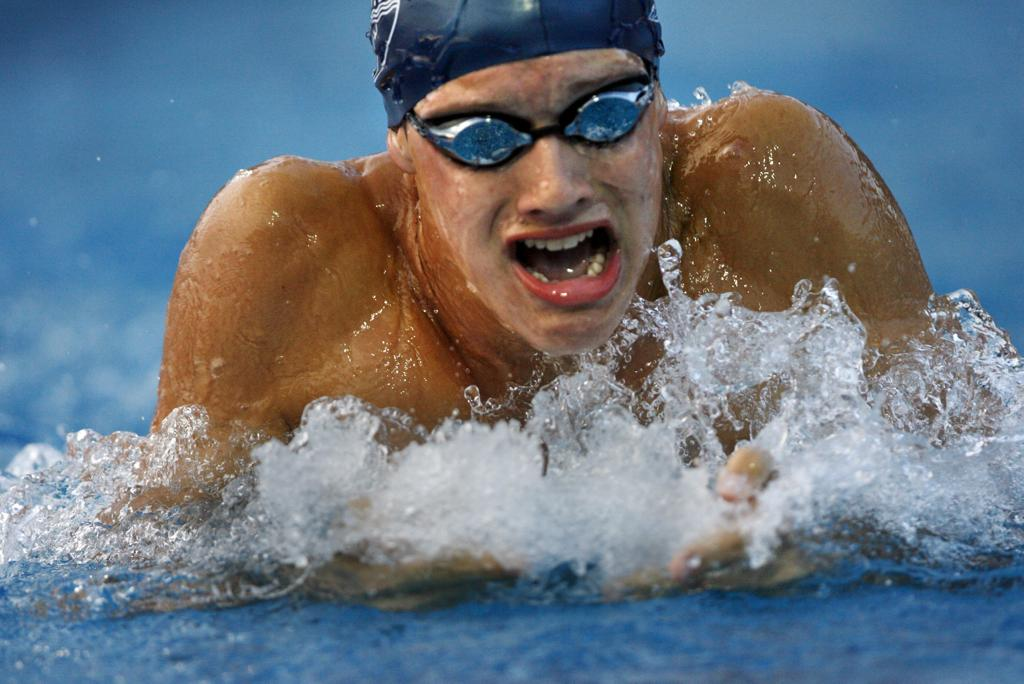face: (410, 24, 662, 358)
